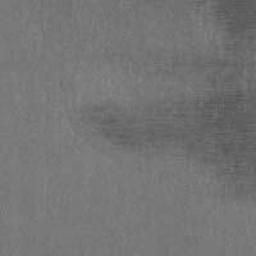Oil spot: (24, 0, 256, 214)
